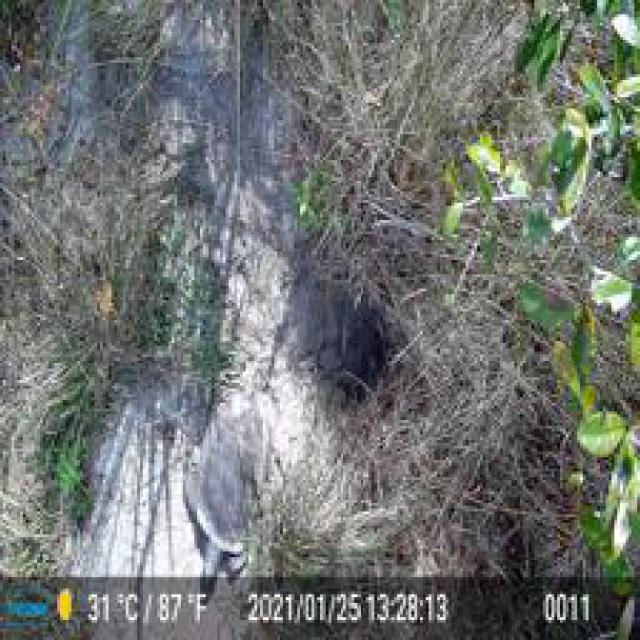tortoise: (186, 392, 269, 595)
